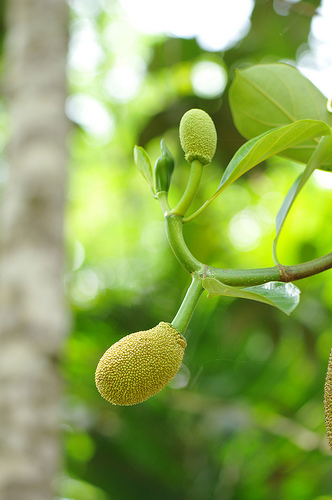jackfruit: (96, 320, 189, 408), (179, 106, 216, 165)
